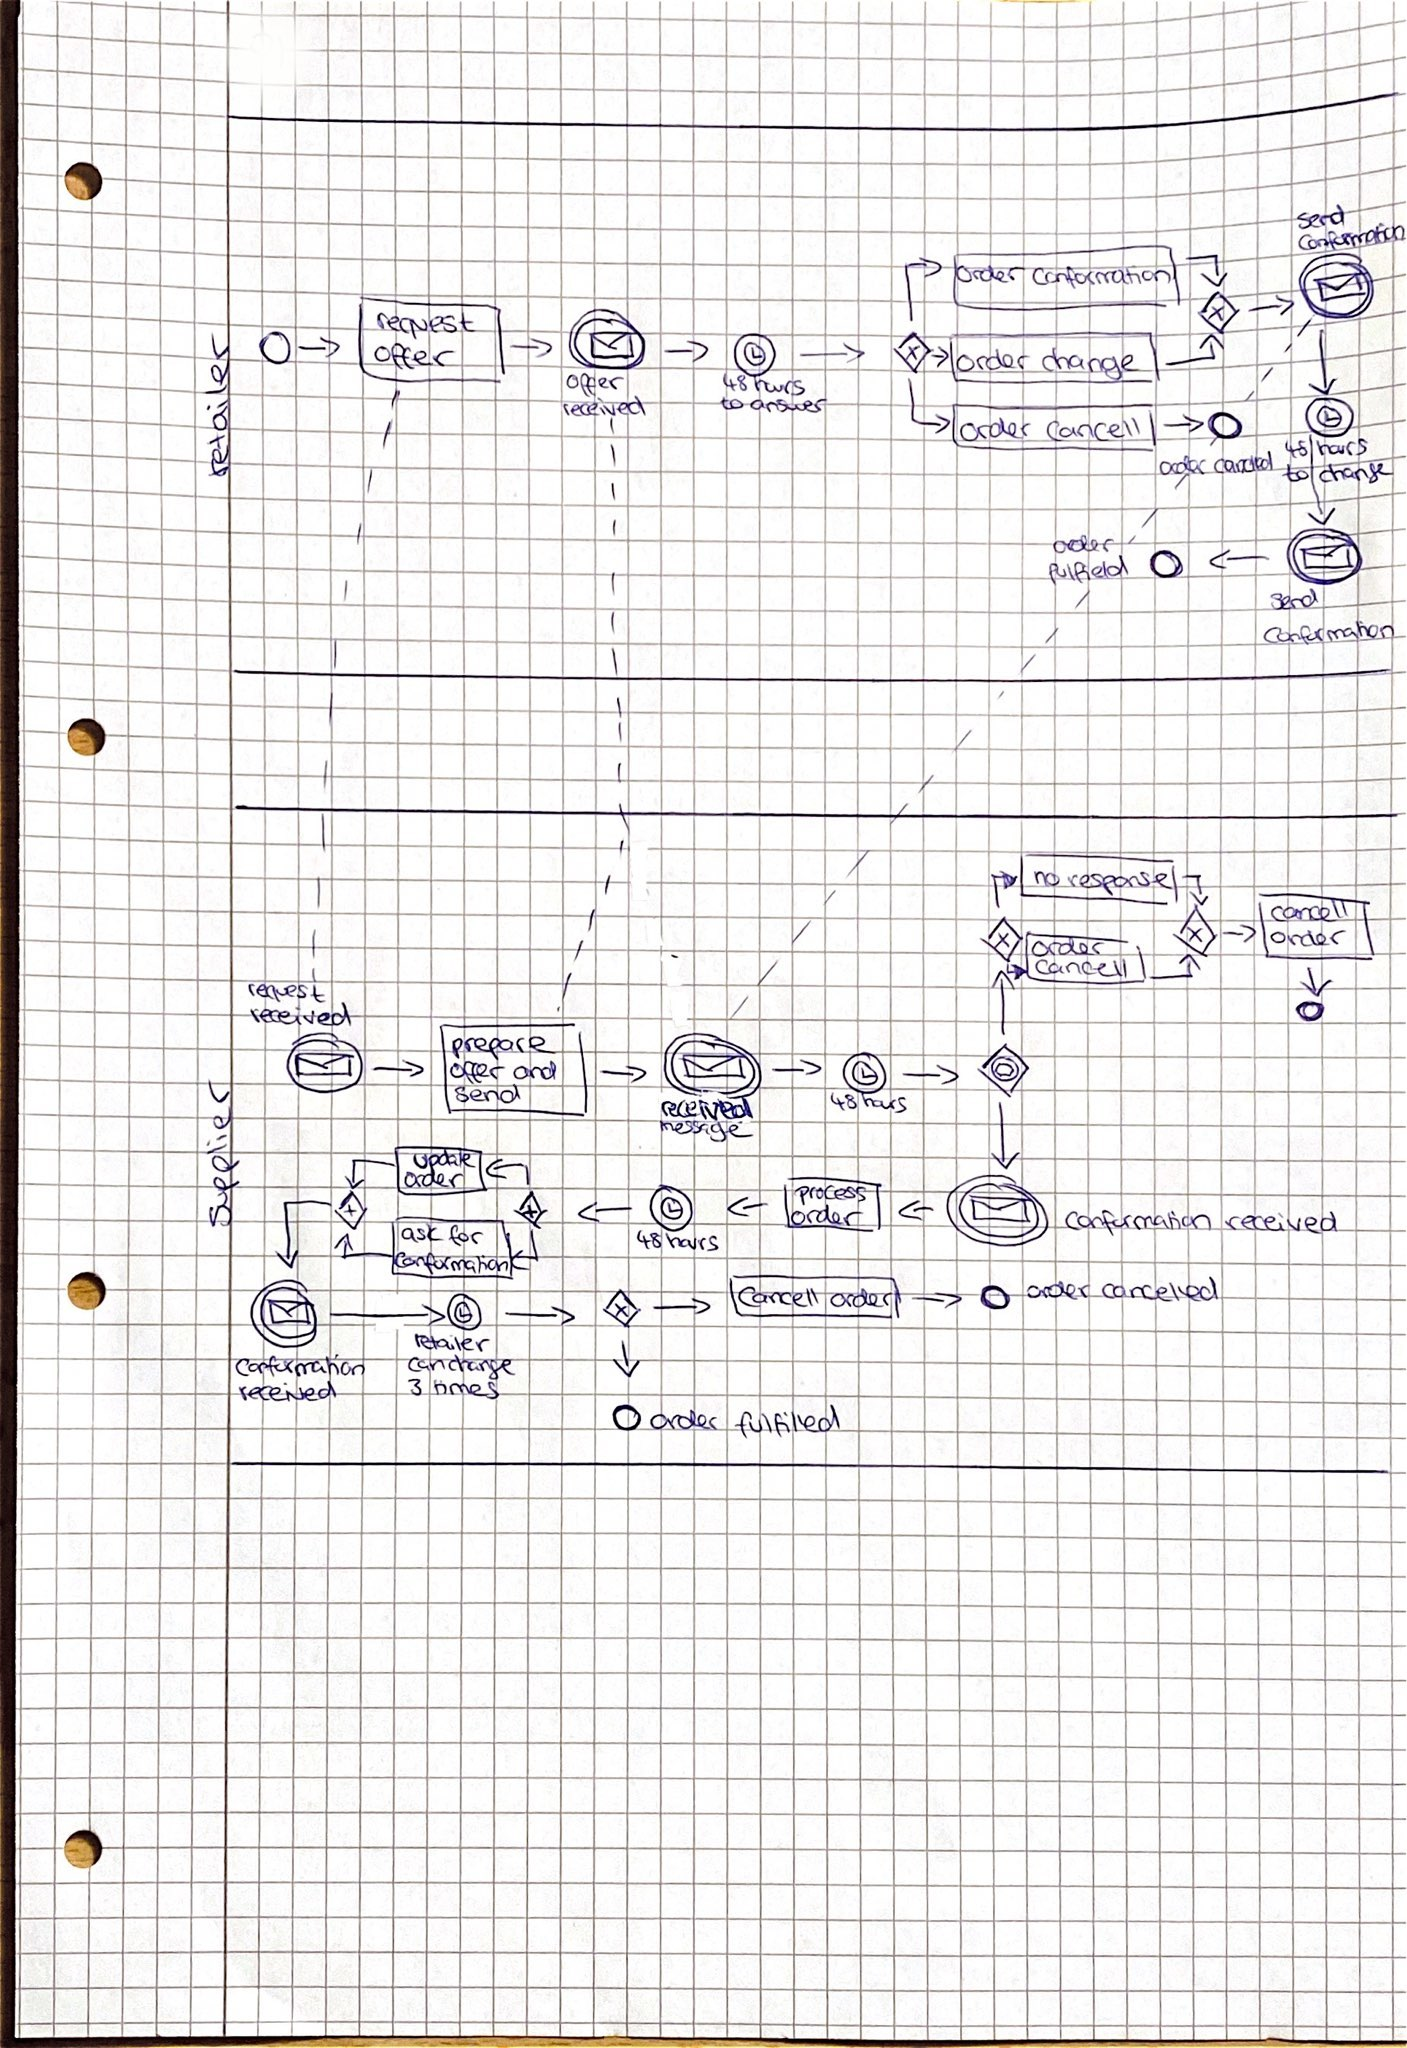3: (402, 1373, 426, 1401)
48: (619, 1229, 682, 1256), (1275, 430, 1307, 461), (823, 1092, 862, 1116)
48hours: (721, 370, 808, 397)
Confirmation: (1061, 1208, 1214, 1239), (1261, 616, 1395, 646)
Conformation: (1290, 223, 1402, 257)
and: (507, 1058, 565, 1083)
answer: (750, 395, 826, 417)
ask: (395, 1225, 448, 1247)
can: (406, 1360, 444, 1373)
cancel: (1265, 893, 1349, 921)
cancell: (1037, 416, 1135, 444), (1030, 956, 1135, 980), (738, 1281, 822, 1307)
cancelled: (1102, 1273, 1222, 1306), (1211, 454, 1273, 472)
change: (1033, 342, 1142, 380), (1317, 458, 1395, 489), (451, 1354, 521, 1376)
confirmation: (238, 1352, 356, 1385), (403, 1254, 503, 1275)
conformation: (1027, 261, 1172, 289)
for: (448, 1226, 482, 1243)
fulfilled: (733, 1405, 848, 1435), (1044, 556, 1135, 584)
hours: (644, 1229, 742, 1257), (1315, 433, 1371, 458), (861, 1096, 915, 1116)
message: (665, 1117, 742, 1142)
no: (1037, 868, 1065, 889)
offer: (372, 341, 461, 373), (563, 367, 624, 395), (448, 1061, 507, 1082)
order: (954, 408, 1033, 447), (957, 339, 1026, 378), (1029, 924, 1105, 959), (956, 255, 1024, 289), (654, 1407, 724, 1438), (1023, 1279, 1107, 1303), (830, 1285, 893, 1313), (1272, 923, 1343, 948), (409, 1167, 462, 1194), (794, 1205, 858, 1226), (1051, 534, 1110, 554), (1156, 456, 1206, 479)
prepare: (448, 1033, 549, 1058)
process: (794, 1181, 867, 1205)
received: (657, 1092, 758, 1120), (1226, 1212, 1337, 1237), (230, 1380, 338, 1405), (559, 398, 644, 422), (265, 1004, 339, 1030)
request: (367, 310, 482, 339), (247, 977, 339, 1008)
response: (1075, 868, 1164, 893)
retailer: (202, 338, 232, 476), (409, 1329, 490, 1359)
send: (448, 1083, 531, 1108), (1293, 205, 1348, 233), (1270, 588, 1317, 615)
supplier: (202, 1082, 238, 1226)
times: (433, 1377, 504, 1402)
to: (714, 394, 749, 416), (1282, 464, 1311, 482)
update: (412, 1148, 475, 1170)
